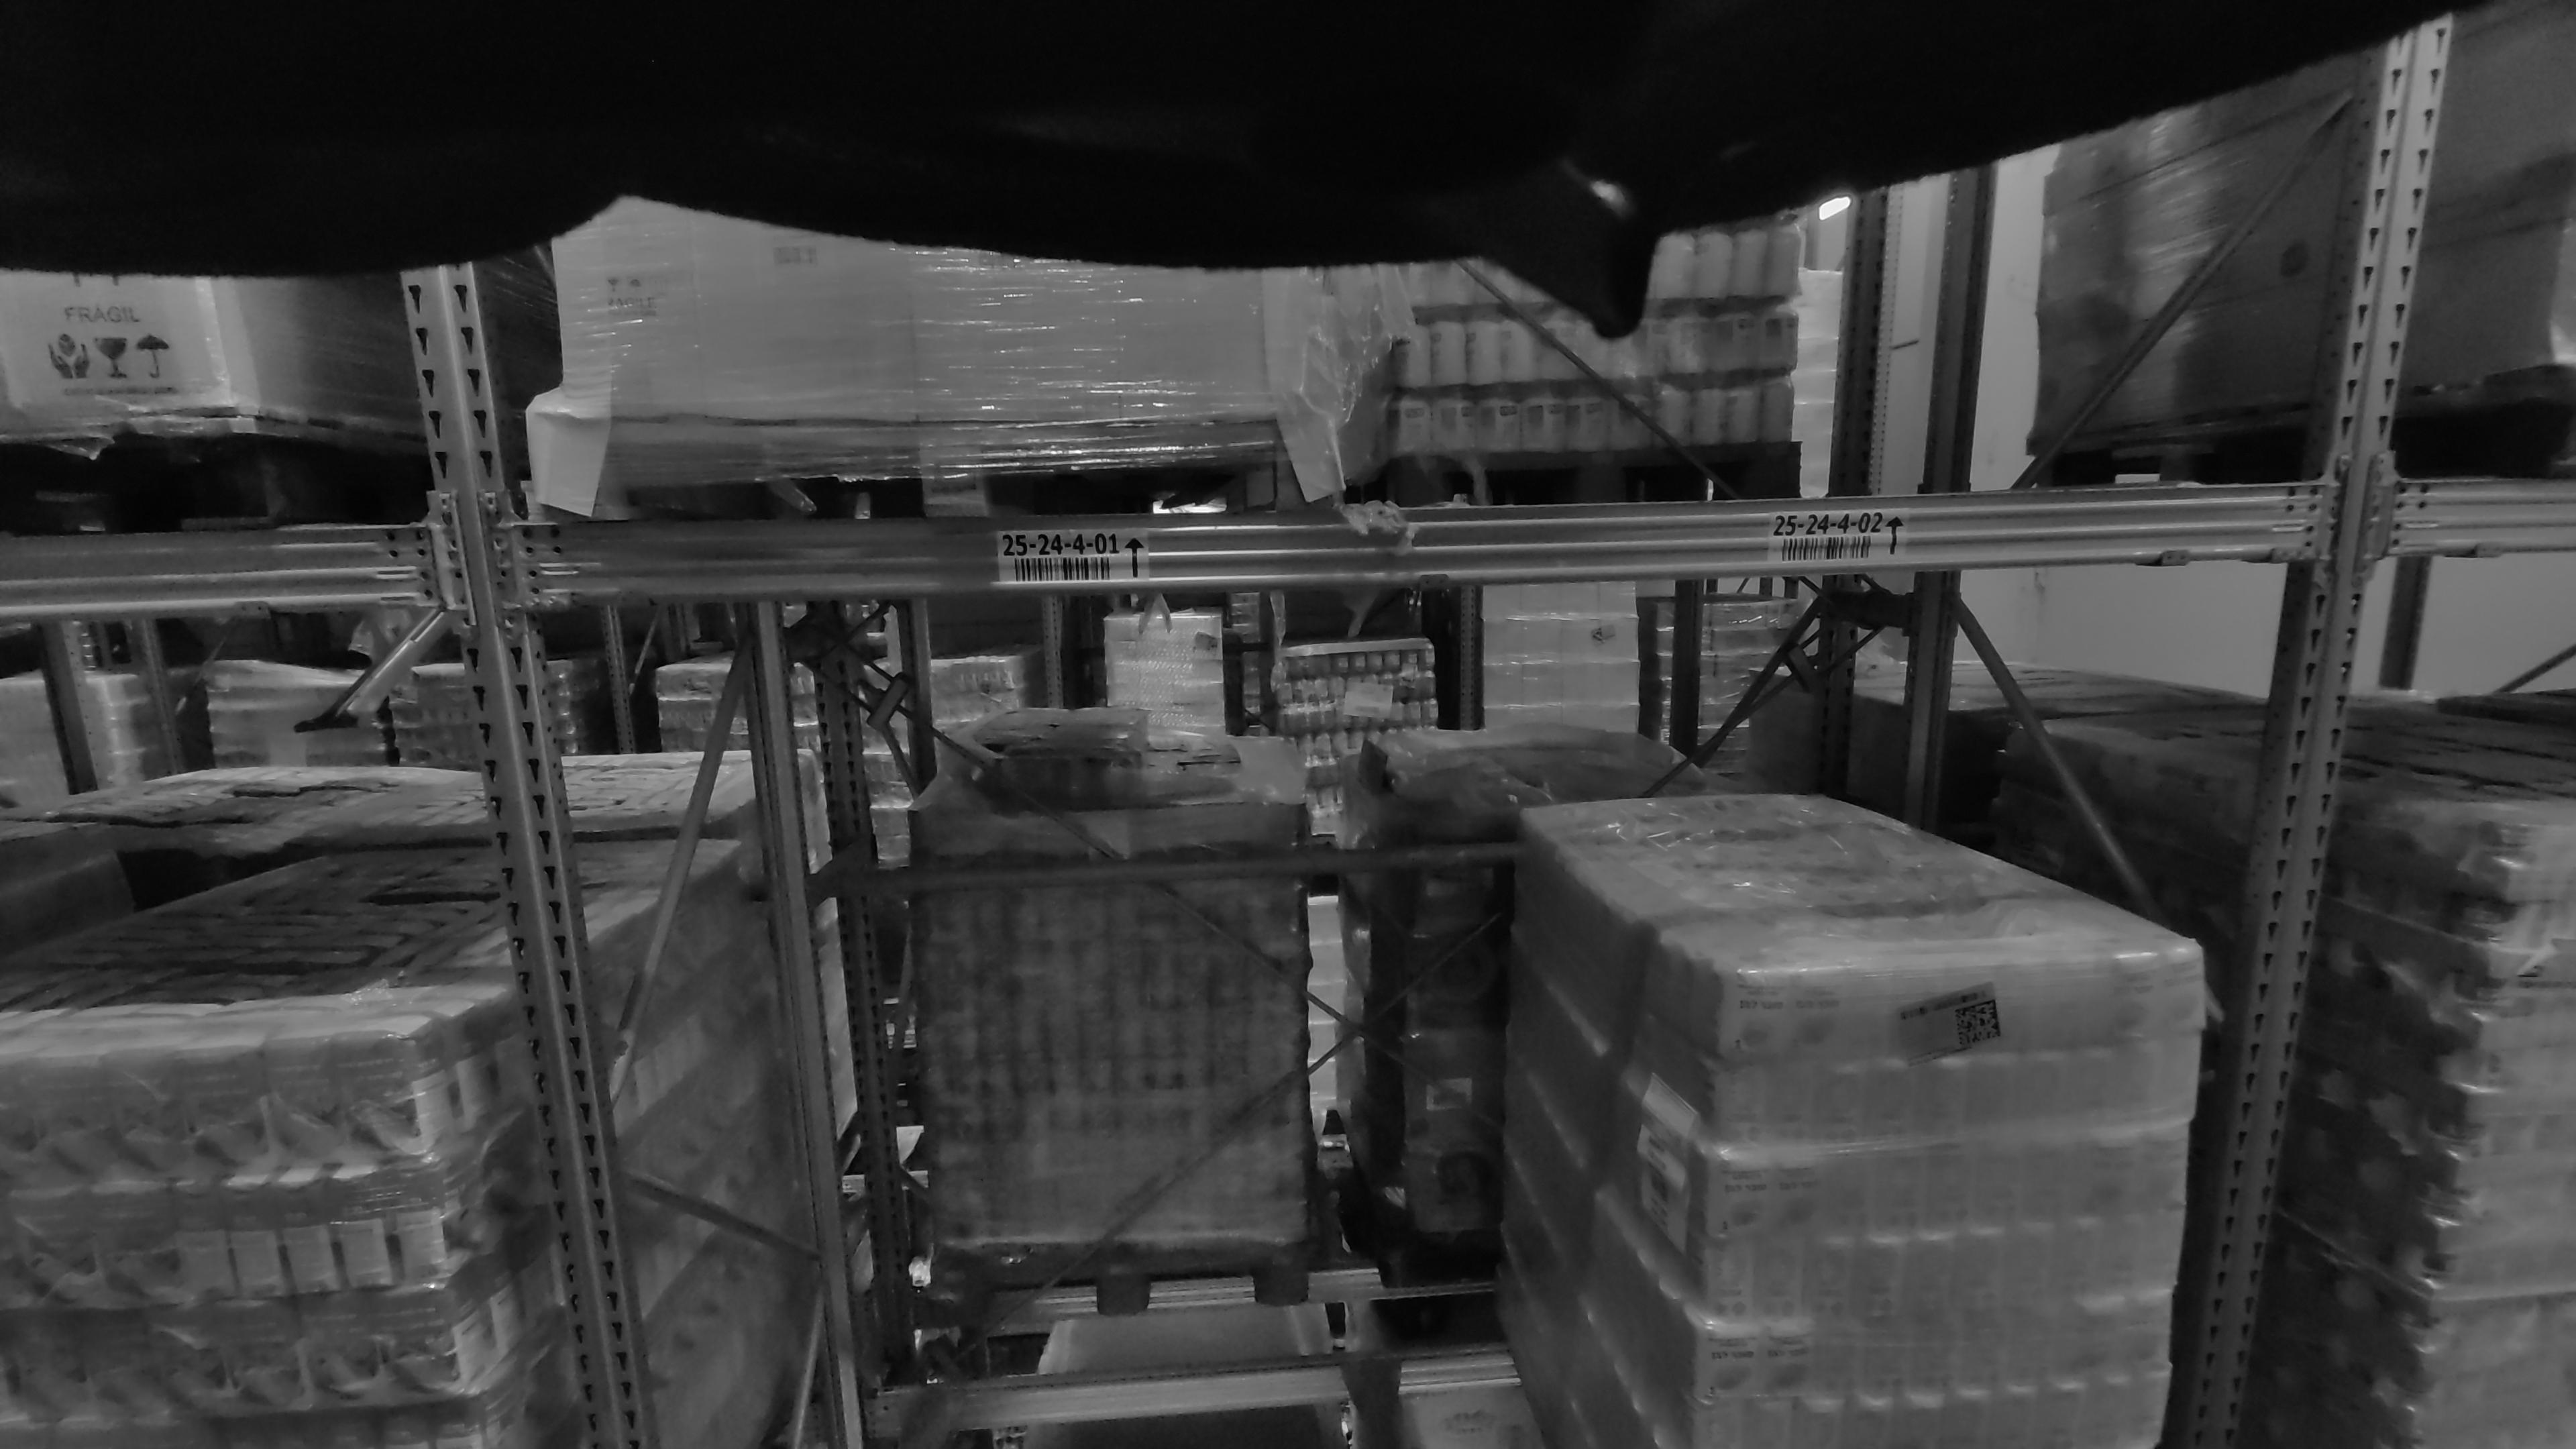empty-shelf: (863, 609, 1414, 1449), (1514, 136, 2236, 494)
